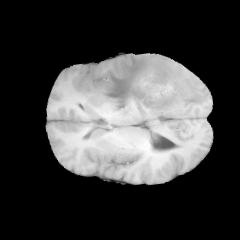glioma: (103, 53, 209, 113)
